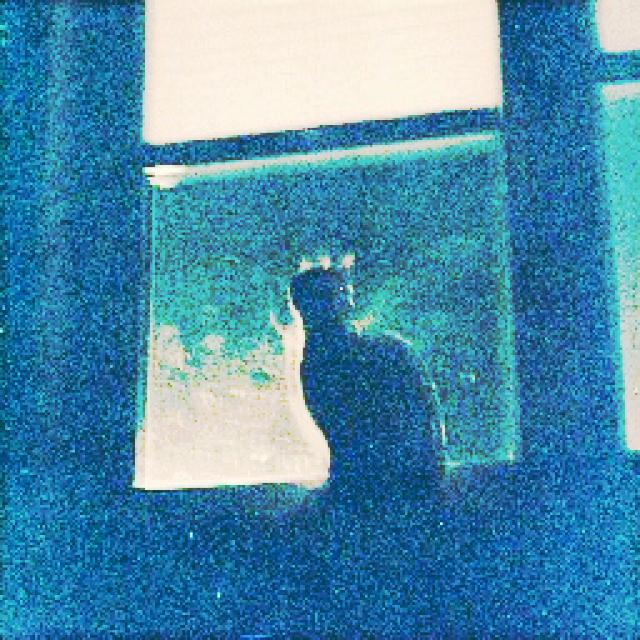cat: (283, 251, 457, 480)
